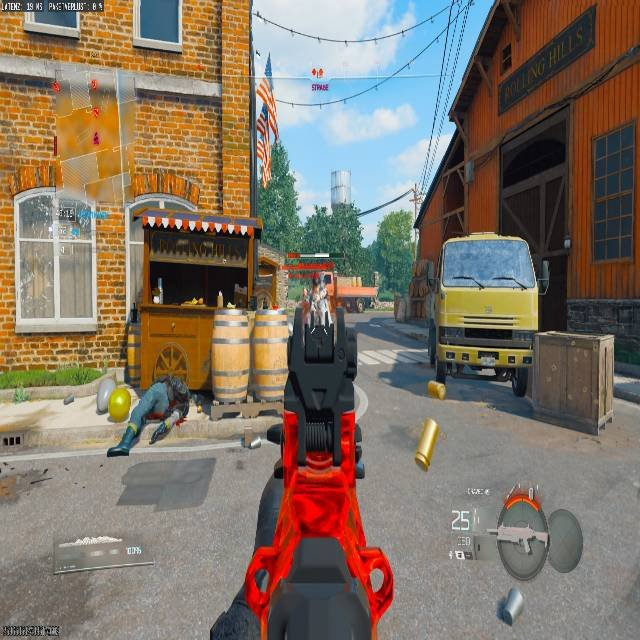player: (298, 281, 325, 333)
